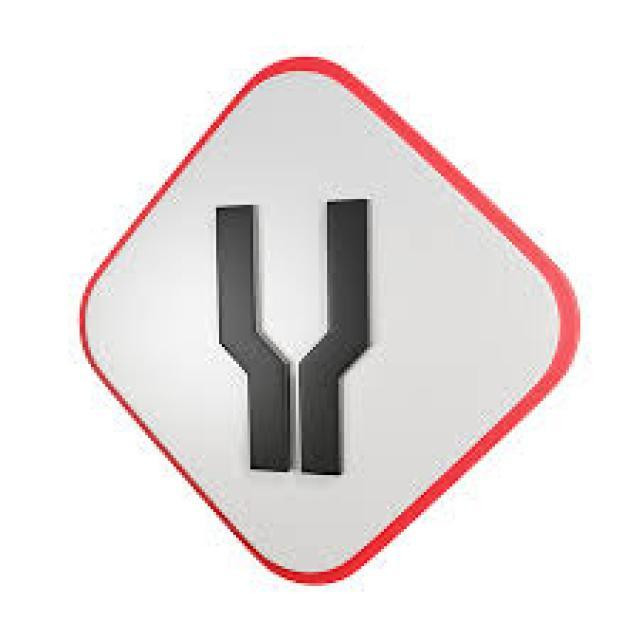road widens ahead: (80, 50, 579, 582)
